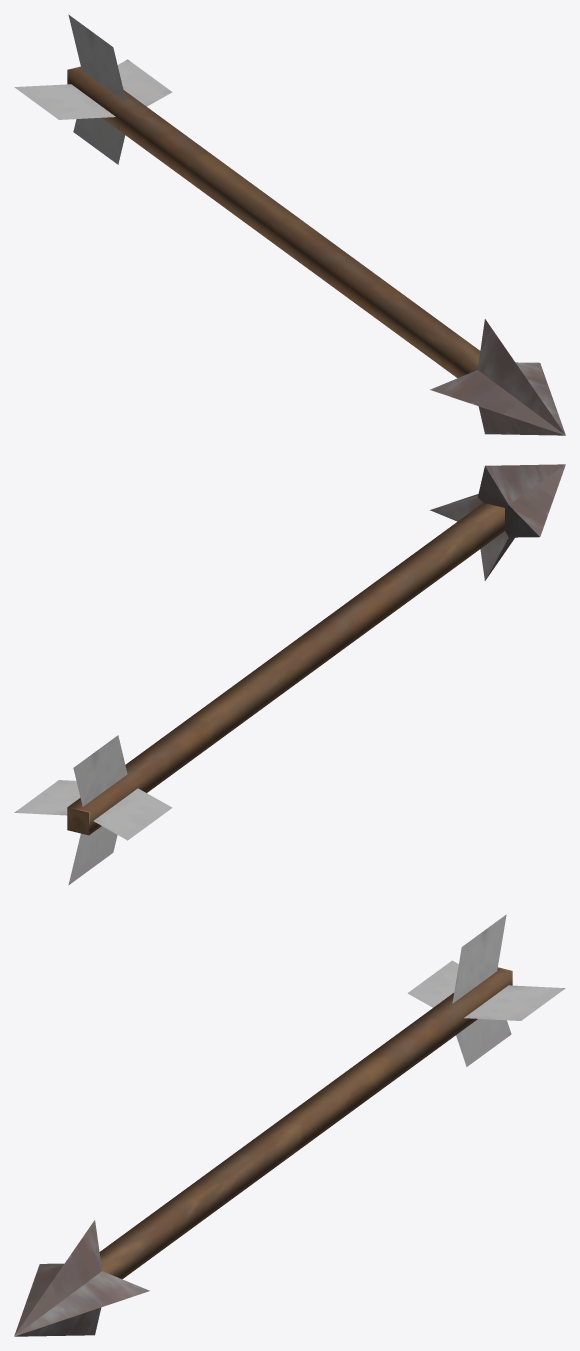
The model's file is arrow-slice-base.glb.
The picture shows the model from 3 angles, top to bottom: view 1: azimuth 30°, elevation 25°; view 2: azimuth 150°, elevation 25°; view 3: azimuth 330°, elevation 25°; orthographic projection.
Size of the model in its own units: 0.1676 by 0.1675 by 1.26.
Materials: 1 (1 with a texture image).
